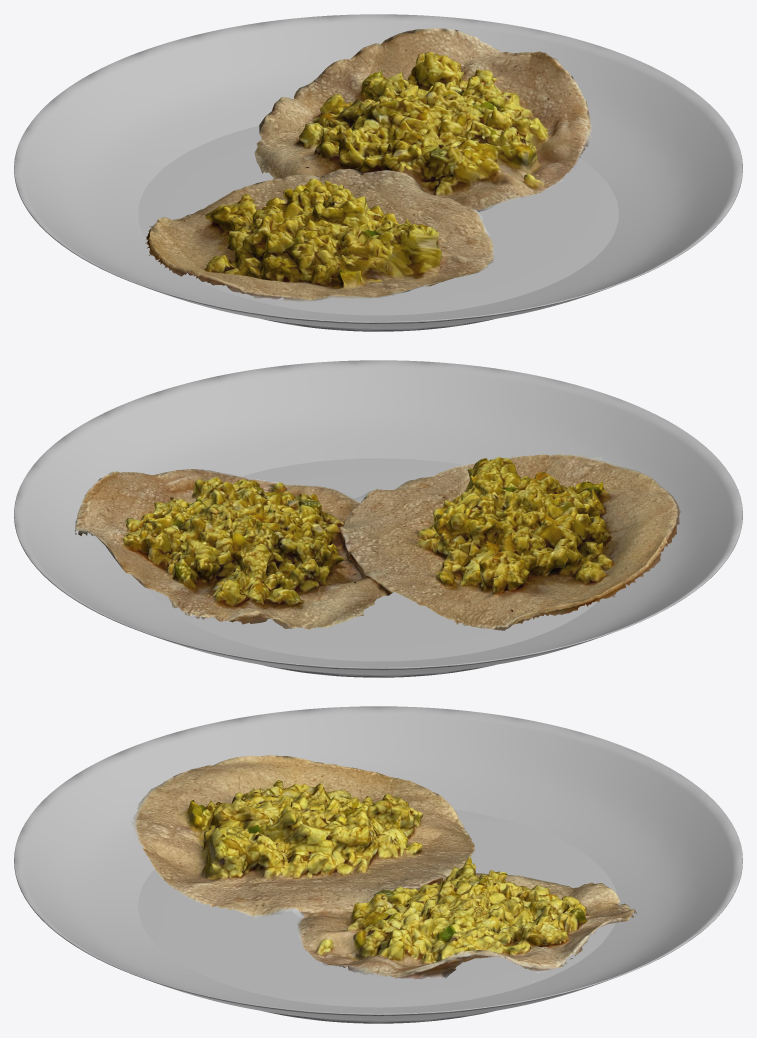
Rendered from tacostofu.glb.
3 views of the same model, one above another, from view 1: azimuth 30°, elevation 25°; view 2: azimuth 150°, elevation 25°; view 3: azimuth 270°, elevation 25° (orthographic).
Parts seen in each view (by area): view 1: Plate, group_0; view 2: Plate, group_0; view 3: Plate, group_0.
Boxes of the visible parts, <box> form: Plate: <box>14,14,742,331</box>; group_0: <box>145,28,592,301</box>; Plate: <box>14,360,742,677</box>; group_0: <box>74,453,682,630</box>; Plate: <box>14,706,742,1023</box>; group_0: <box>131,755,636,981</box>.
Size of the model in its own units: 2.84 by 0.3671 by 2.84.
Materials: 2 (1 with a texture image).
